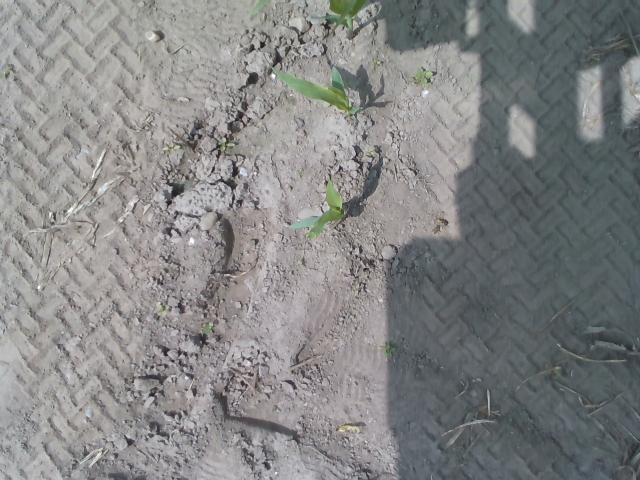Maize: (262, 53, 358, 121), (247, 0, 370, 37), (284, 176, 346, 238)
Weeds: (414, 67, 434, 87), (158, 142, 180, 156), (154, 302, 172, 318), (199, 321, 216, 337), (218, 137, 235, 152), (382, 344, 396, 360), (366, 148, 374, 157), (371, 59, 381, 66)
